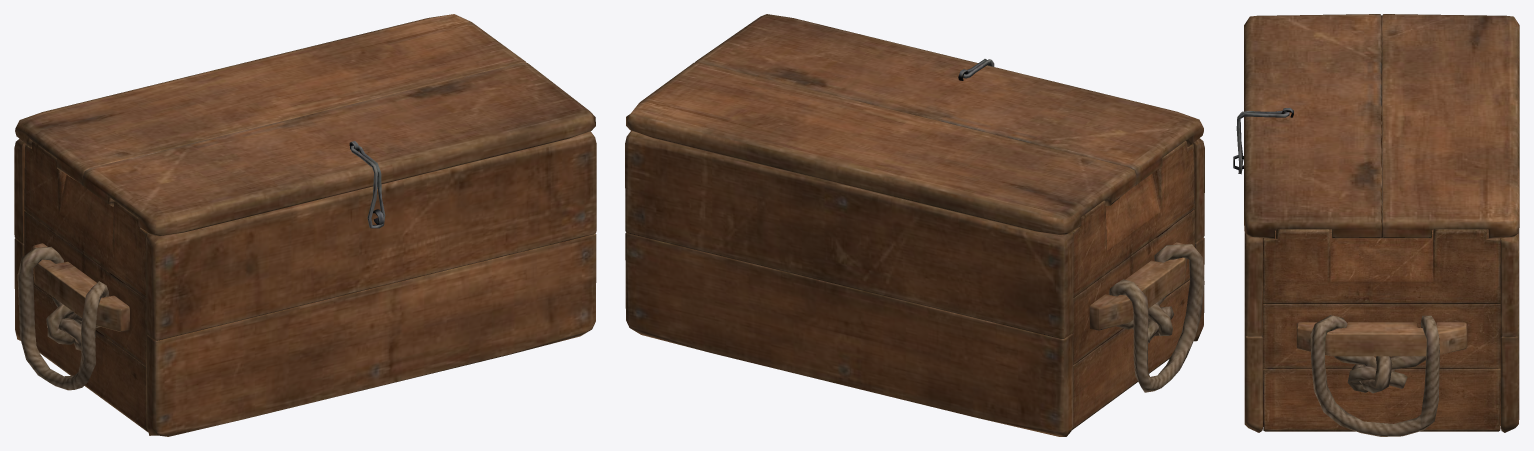
File: wcrate.glb
3 renders of one model, left to right at view 1: azimuth 30°, elevation 25°; view 2: azimuth 150°, elevation 25°; view 3: azimuth 270°, elevation 25°, orthographic. The views are drawn at different scales.
Visible parts, largest first — view 1: wcrate; view 2: wcrate; view 3: wcrate.
Boxes of the visible parts, box(x1,y1,x2,y2) form: wcrate: box(14, 14, 596, 436); wcrate: box(625, 14, 1204, 436); wcrate: box(1233, 14, 1519, 436).
Size of the model in its own units: 0.826 by 0.3487 by 0.4077.
1 material, 1 textured.
